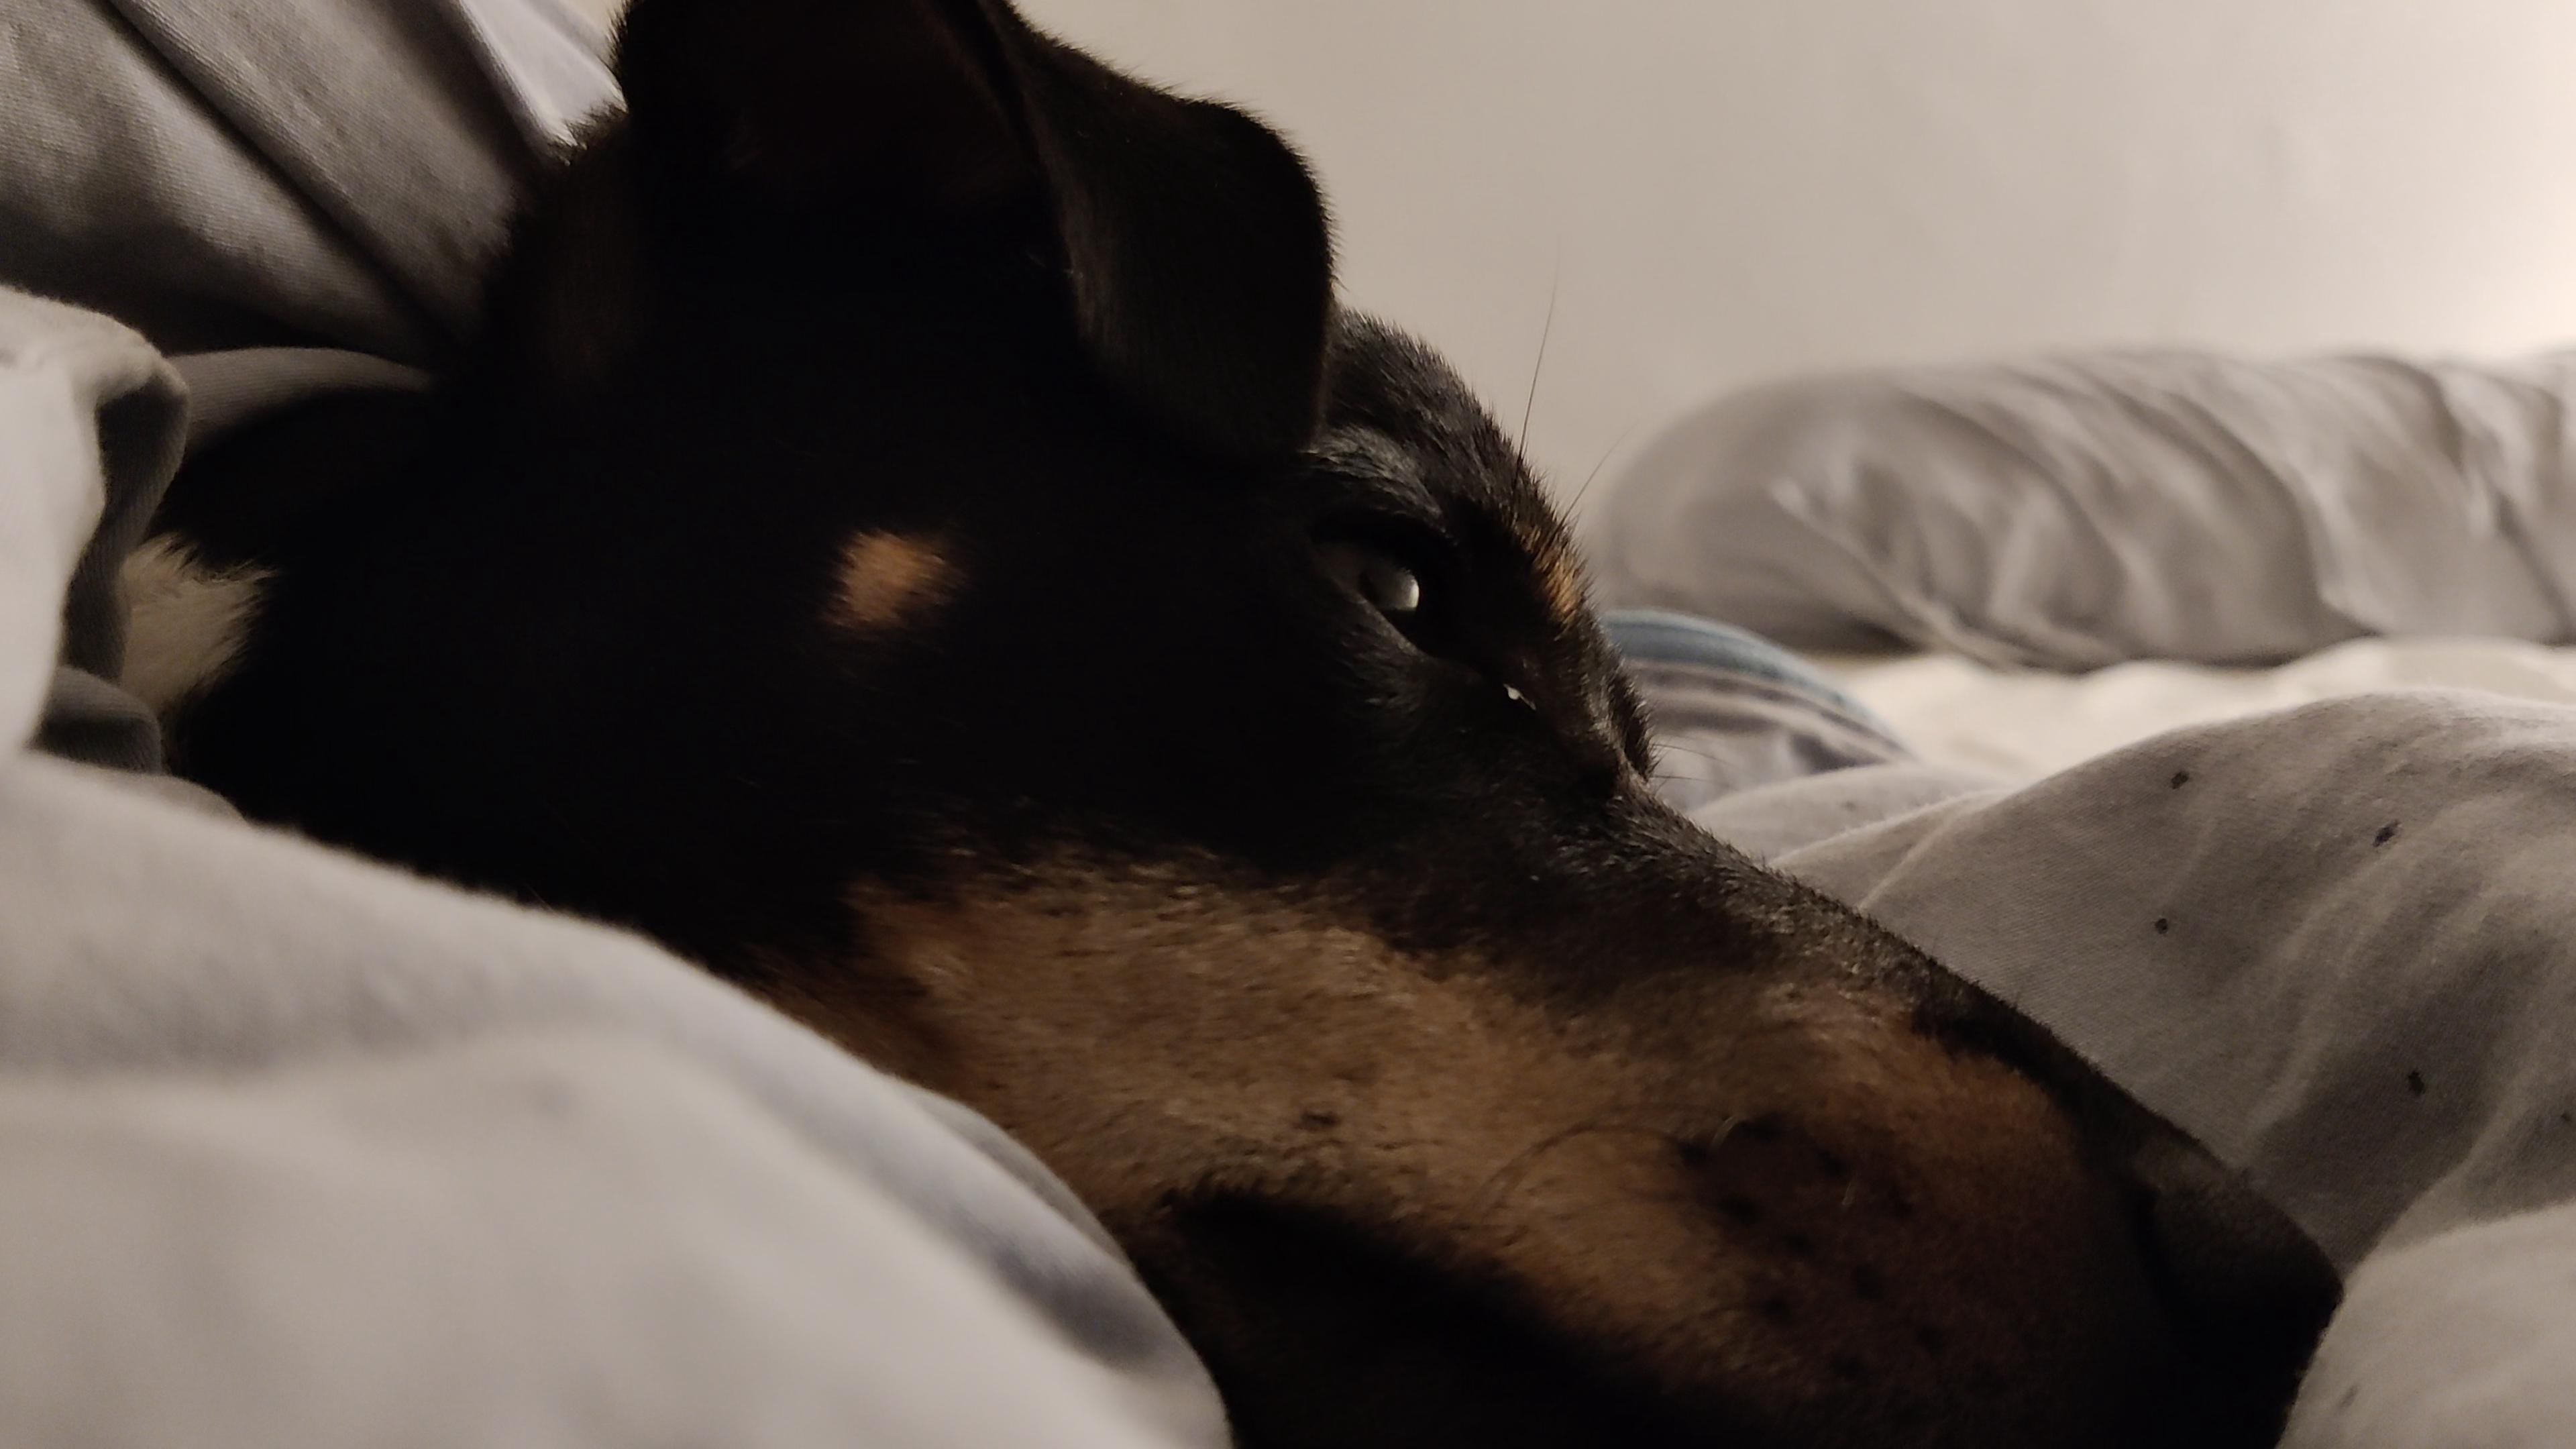Dog: (122, 0, 2358, 1449)
